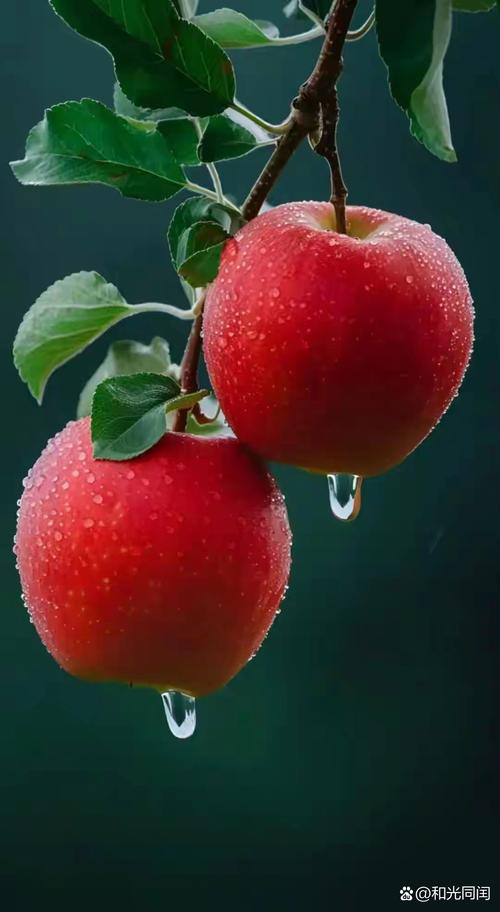ripe: (0, 400, 307, 707), (198, 191, 486, 482)
